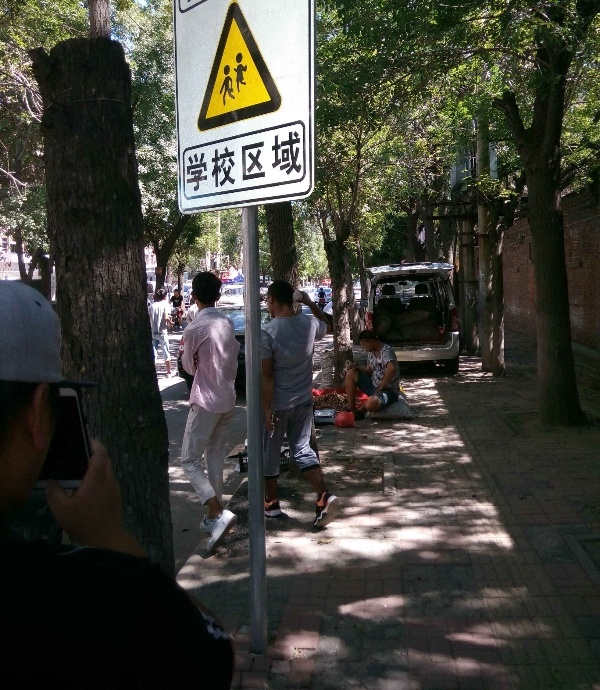text: (289, 129, 305, 195), (193, 129, 208, 195), (209, 129, 224, 195), (225, 129, 240, 195), (241, 129, 256, 195), (257, 129, 272, 195), (273, 129, 288, 195), (185, 129, 192, 195)
